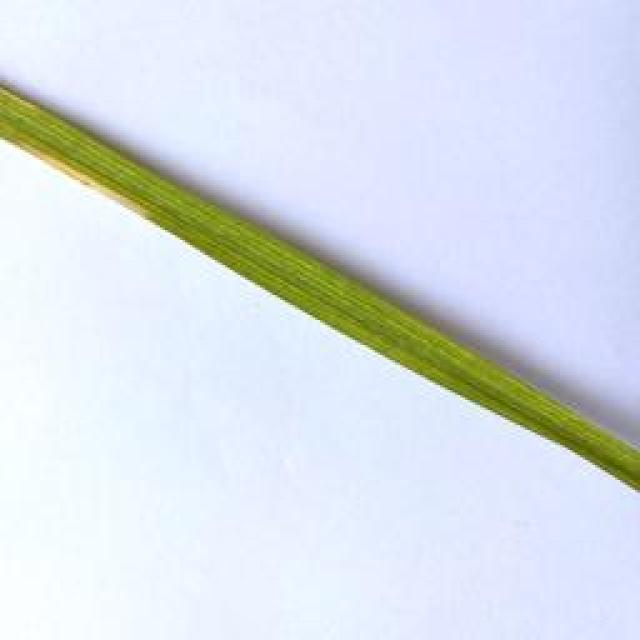Bacterial_Blight: (0, 120, 170, 218)
